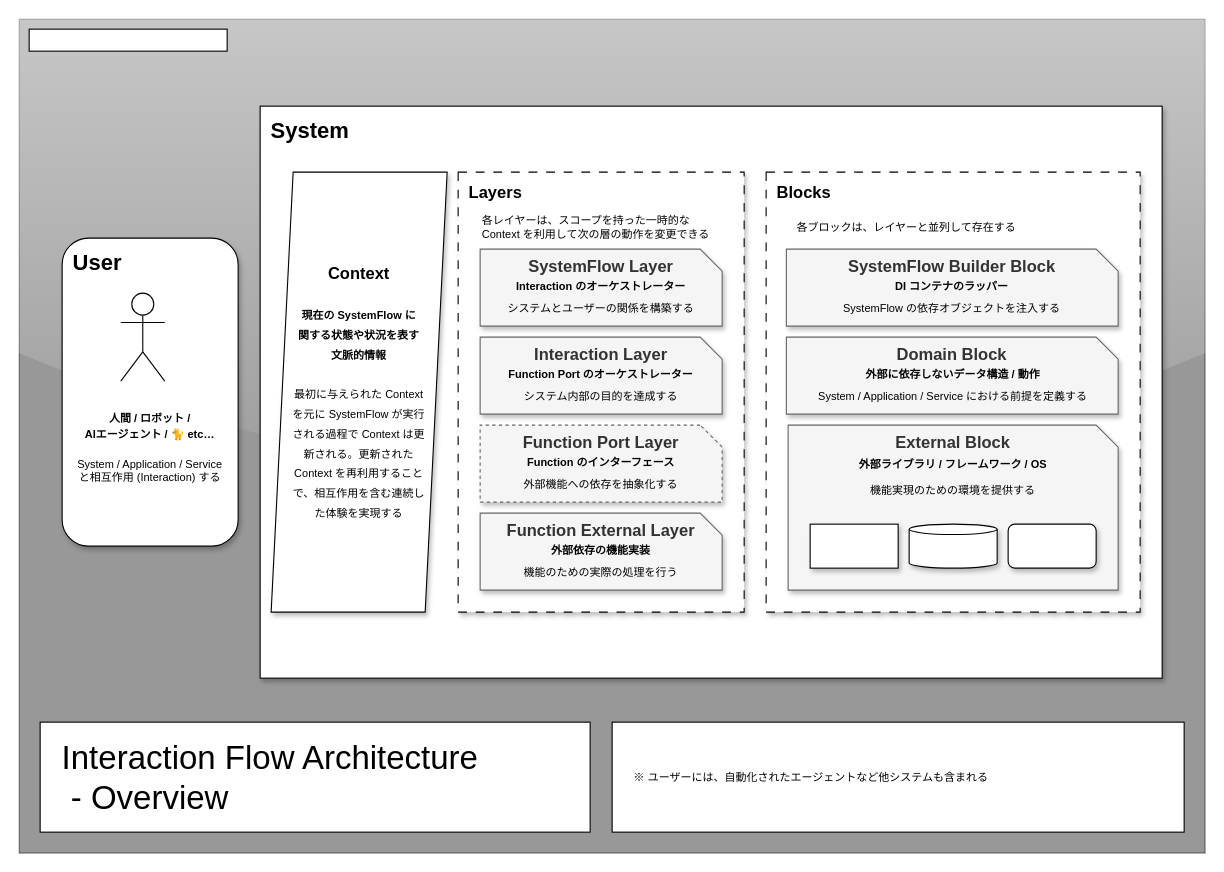
The diagram is 1224 pixels wide and 872 high, and some of its shapes have lost their labels. The centre of each missing label's shape, as x and y in pixels:
"DB / File System" belongs at point (954, 547).
"Input / Output" belongs at point (1053, 547).
"version 3.7 2026.07.25" belongs at point (127, 39).
"外部イベント / 外部プロパティ" belongs at point (855, 547).
